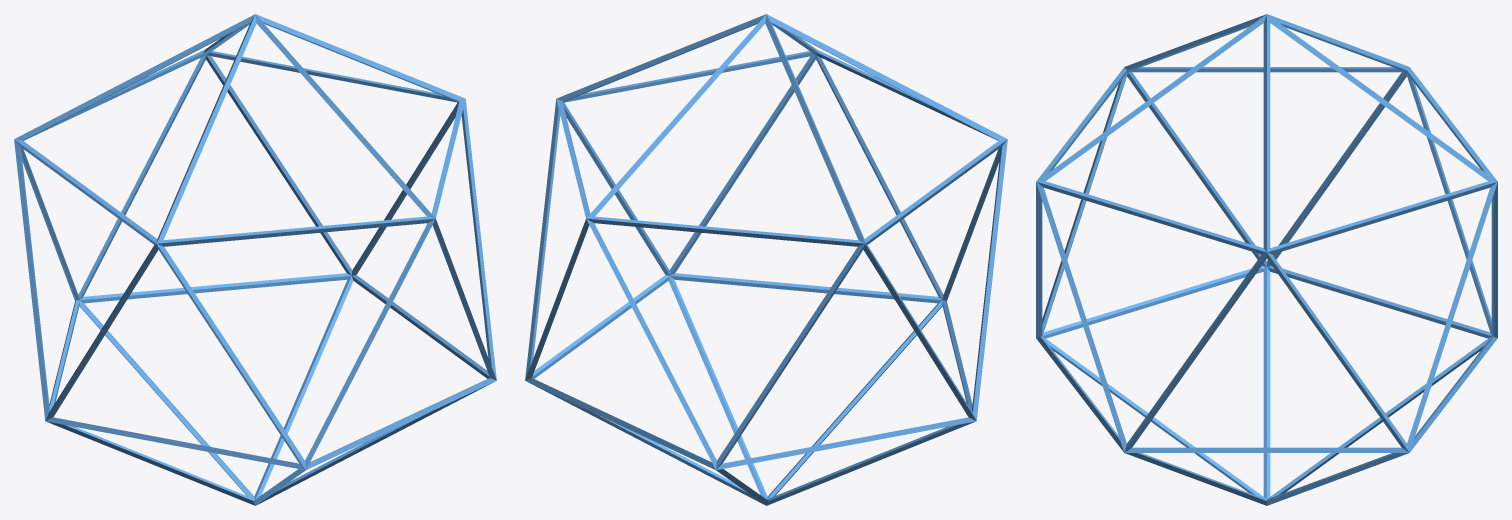
File: PGK_Dome_Geo_3m_LOD0.fbx
3 views of the same model, side by side, from view 1: azimuth 30°, elevation 25°; view 2: azimuth 150°, elevation 25°; view 3: azimuth 270°, elevation 25° (orthographic).
Parts seen in each view (by area): view 1: Dome; view 2: Dome; view 3: Dome.
Boxes of the visible parts, x1,y1,x2,y2 form: Dome: [14, 14, 496, 505]; Dome: [525, 14, 1007, 505]; Dome: [1036, 14, 1497, 505].
Bounding box in the file's own units: 2.72 × 3.04 × 2.59.
